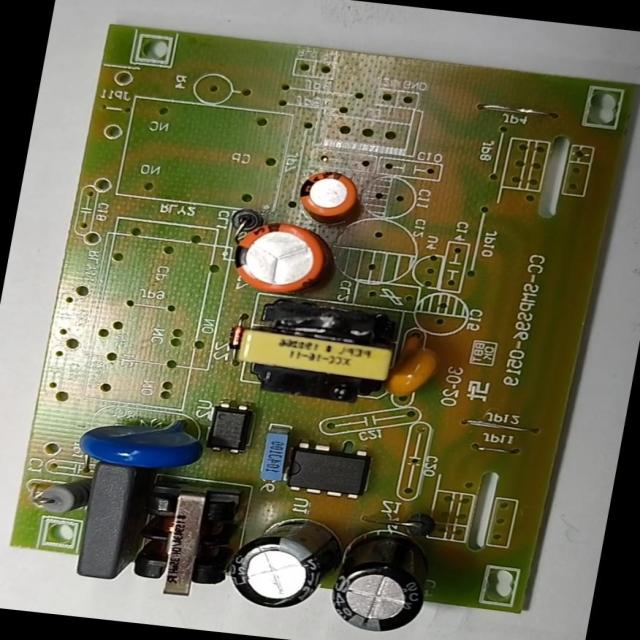Cap1: (226, 216, 337, 299)
Cap2: (295, 167, 366, 223)
Cap3: (221, 509, 344, 616)
Cap4: (323, 527, 438, 639)
MOSFET: (282, 438, 378, 502)
Mov: (72, 406, 210, 473)
Resistor: (30, 474, 88, 522)
Transformer: (229, 296, 407, 410), (122, 478, 245, 604)
